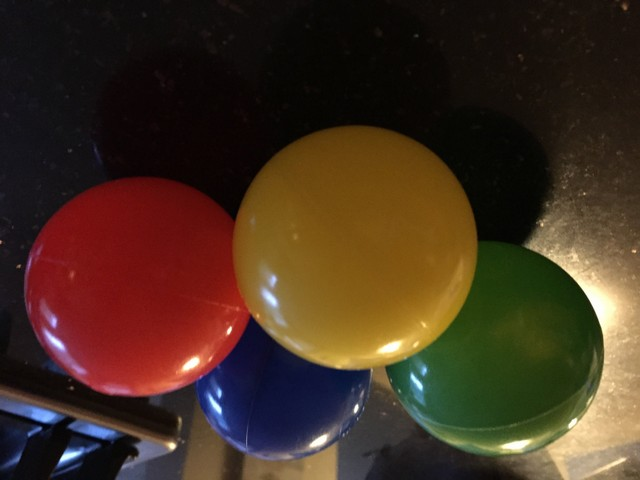ball: (234, 124, 476, 370)
